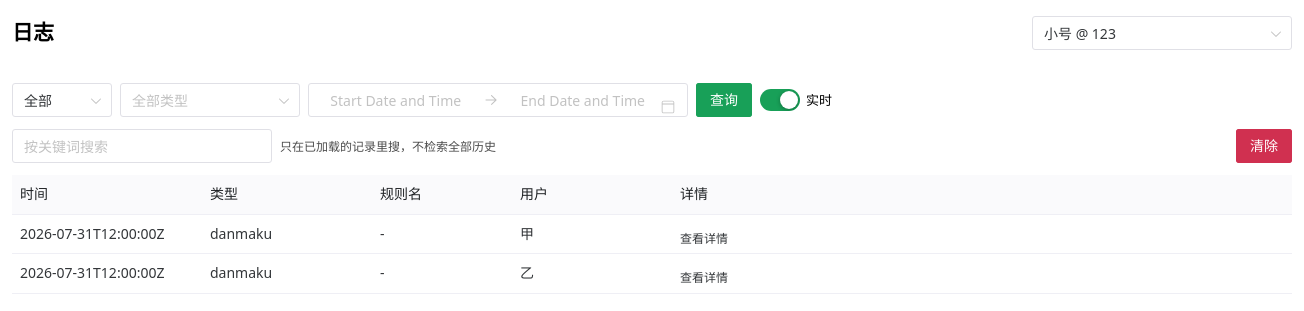
Scenario: Logs 页 › 关键词只在已加载的记录里过滤，且界面说明了这一点
Type "甲" into the field with placeholder "按关键词搜索".
click(142, 146); type("甲")  # box x1=24 y1=129 x2=260 y2=163
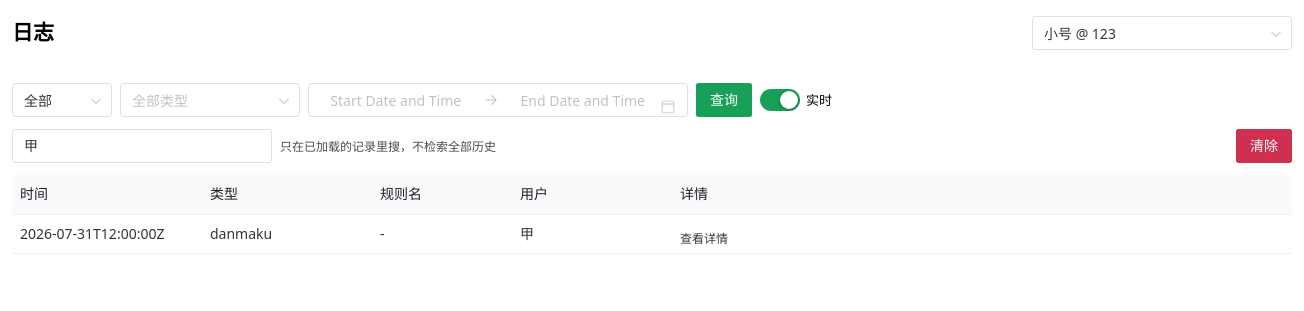
Expected: the text "甲" is shown, x1=512 y1=215 x2=672 y2=254
Expected: the text "乙" is gone
